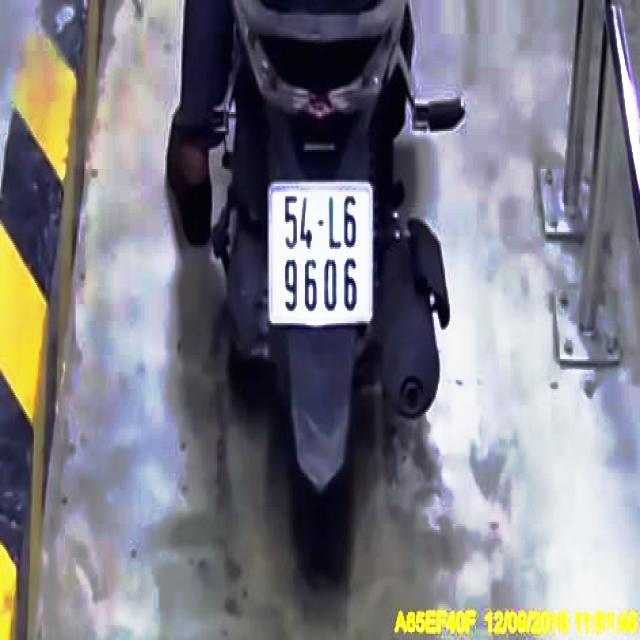license_plate: (269, 185, 372, 318)
